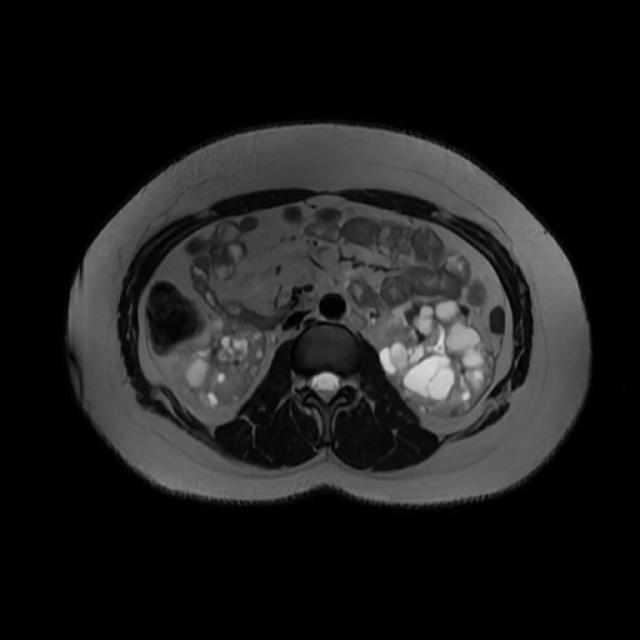sag: (171, 314, 268, 415)
sol: (379, 298, 497, 420)
